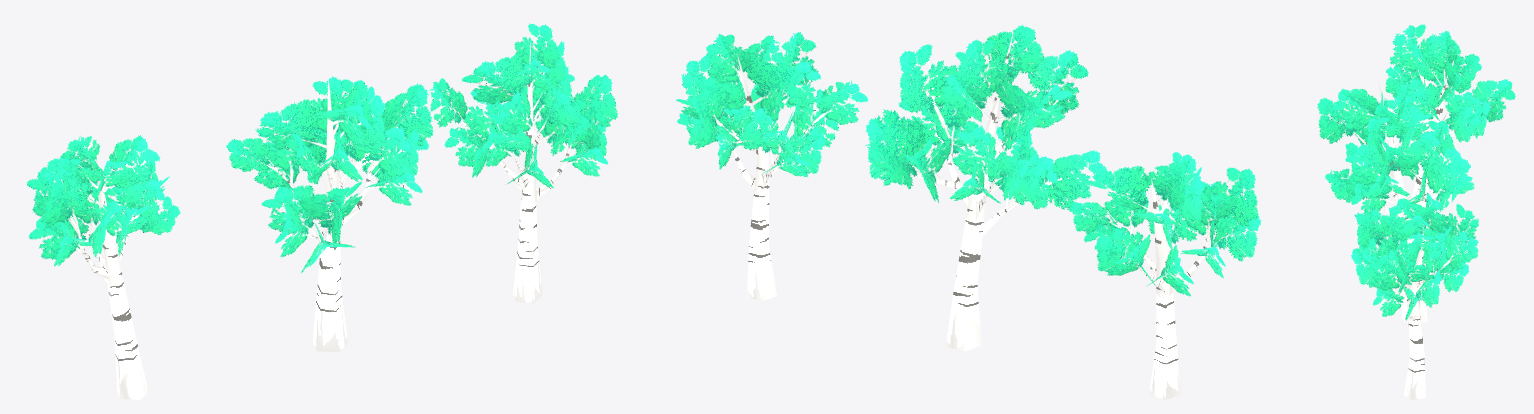
File: lowpoly_birch_tree_3d_pixel_art.glb
3 views of the same model, side by side, from view 1: azimuth 30°, elevation 25°; view 2: azimuth 150°, elevation 25°; view 3: azimuth 270°, elevation 25° (orthographic). The views are drawn at different scales.
Parts seen in each view (by area): view 1: Birch_02_1, Birch_01_0, Birch_03_2; view 2: Birch_02_1, Birch_01_0, Birch_03_2; view 3: Birch_02_1, Birch_01_0, Birch_03_2.
Part boxes in pixels (x1=…): Birch_02_1: x1=226, y1=76, x2=433, y2=352; Birch_01_0: x1=429, y1=23, x2=617, y2=302; Birch_03_2: x1=27, y1=135, x2=180, y2=399; Birch_02_1: x1=865, y1=24, x2=1107, y2=351; Birch_01_0: x1=676, y1=32, x2=868, y2=300; Birch_03_2: x1=1070, y1=152, x2=1261, y2=399; Birch_02_1: x1=1317, y1=77, x2=1474, y2=323; Birch_01_0: x1=1351, y1=192, x2=1478, y2=399; Birch_03_2: x1=1385, y1=24, x2=1515, y2=238.
Bounding box in the file's own units: 18.2 × 8.58 × 7.15.
Materials: 1 (1 with a texture image).
